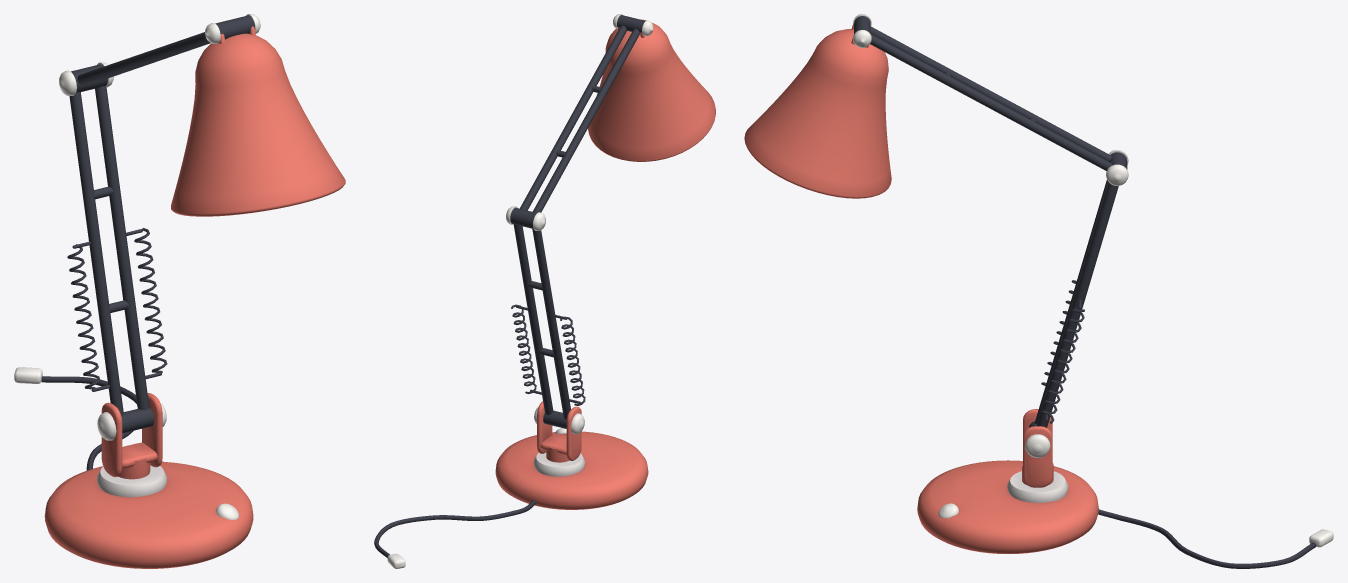
The model's file is desk-lamp.glb.
The picture shows the model from 3 angles, left to right: view 1: azimuth 30°, elevation 25°; view 2: azimuth 150°, elevation 25°; view 3: azimuth 270°, elevation 25°; orthographic projection. The views are drawn at different scales.
Parts seen in each view (by area): view 1: desk-lamp_body, desk-lamp_lamphead, desk-lamp_armlow, desk-lamp_armup; view 2: desk-lamp_body, desk-lamp_lamphead, desk-lamp_armlow, desk-lamp_armup; view 3: desk-lamp_lamphead, desk-lamp_body, desk-lamp_armup, desk-lamp_armlow.
Boxes of the visible parts, x1,y1,x2,y2 form: desk-lamp_body: [14, 367, 253, 568]; desk-lamp_lamphead: [171, 26, 345, 216]; desk-lamp_armlow: [59, 62, 167, 433]; desk-lamp_armup: [77, 14, 260, 85]; desk-lamp_body: [374, 401, 648, 568]; desk-lamp_lamphead: [588, 19, 715, 161]; desk-lamp_armlow: [506, 206, 585, 428]; desk-lamp_armup: [520, 14, 653, 212]; desk-lamp_lamphead: [744, 23, 891, 198]; desk-lamp_body: [917, 409, 1333, 568]; desk-lamp_armup: [853, 14, 1112, 170]; desk-lamp_armlow: [1029, 150, 1128, 427].
Bounding box in the file's own units: 0.2161 × 0.5537 × 0.5966.
8 materials, 1 textured.
